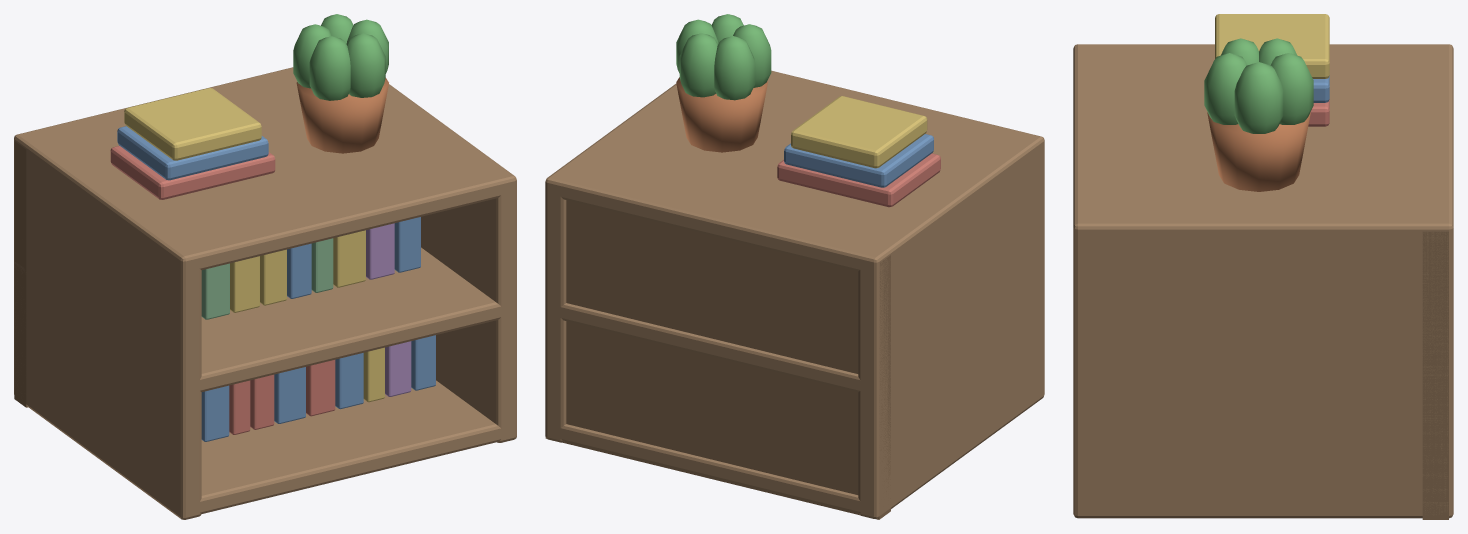
The model's file is bookshelf.glb.
3 views of the same model, side by side, from view 1: azimuth 30°, elevation 25°; view 2: azimuth 150°, elevation 25°; view 3: azimuth 270°, elevation 25° (orthographic). The views are drawn at different scales.
Parts seen in each view (by area): view 1: bookshelf; view 2: bookshelf; view 3: bookshelf.
Part boxes in pixels (x1,y1,x2,y2): bookshelf: [14, 14, 516, 519]; bookshelf: [545, 14, 1044, 519]; bookshelf: [1073, 14, 1453, 519].
Size of the model in its own units: 0.98 by 1.05 by 0.86.
